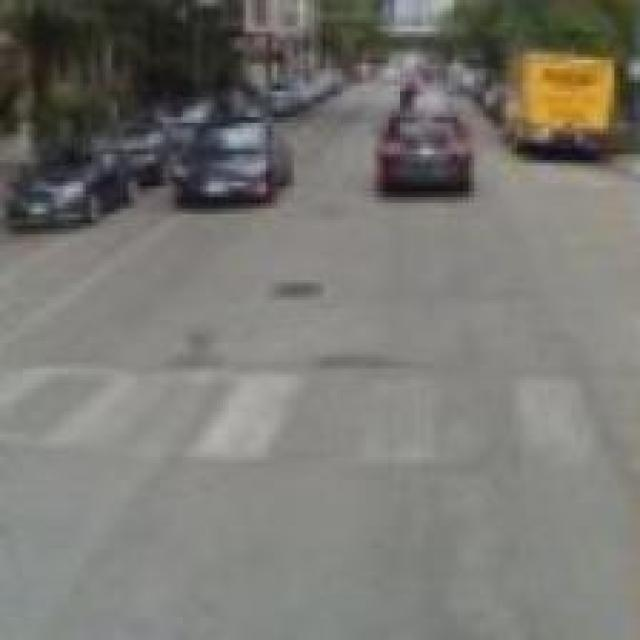walk-crossing: (14, 367, 640, 468)
